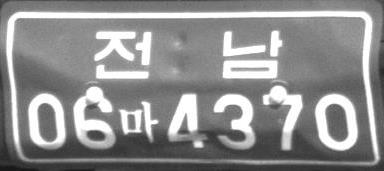0: (313, 93, 358, 151), (26, 91, 66, 150)
3: (213, 93, 256, 149)
4: (168, 94, 208, 149)
6: (72, 93, 116, 150)
7: (262, 93, 303, 151)
마: (119, 99, 158, 143)
전남_D: (93, 30, 283, 79)
